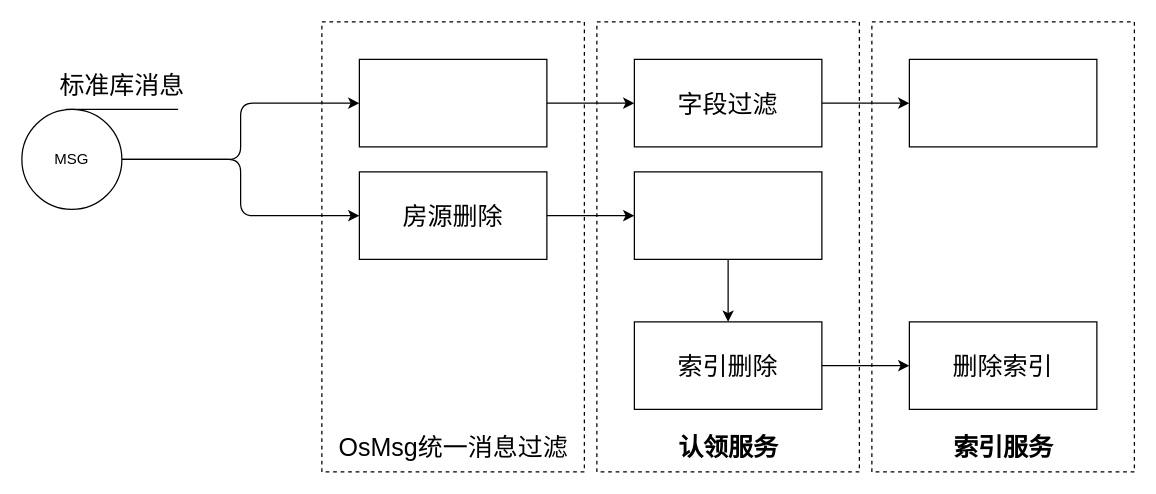
Some shapes in this 1156 by 494 pixel diagram are drawn without their labels. Here are the shapes that lost their labels. From the top down, the centre of each, then its label:
point (452, 102): 房源更新
point (1002, 102): 更新索引
point (727, 215): 认领关系删除
